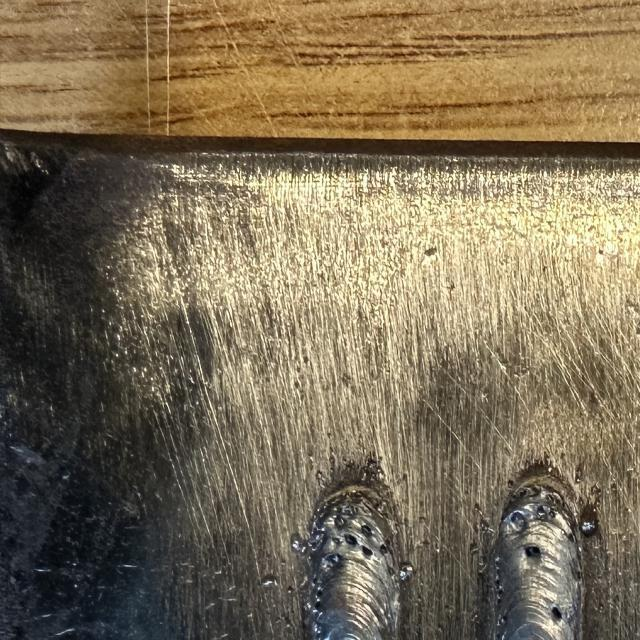Porosity: (503, 484, 540, 514), (494, 556, 503, 606), (510, 512, 525, 532), (333, 514, 349, 530), (327, 552, 344, 566), (536, 503, 548, 522), (315, 587, 324, 612), (496, 612, 508, 626), (525, 547, 541, 557), (362, 544, 374, 557), (362, 524, 373, 536), (378, 544, 390, 555), (345, 535, 358, 545), (551, 607, 561, 620), (313, 575, 318, 587), (496, 632, 501, 639)
Spatters: (580, 505, 599, 537), (290, 533, 309, 555), (399, 563, 414, 582), (261, 575, 278, 588)
